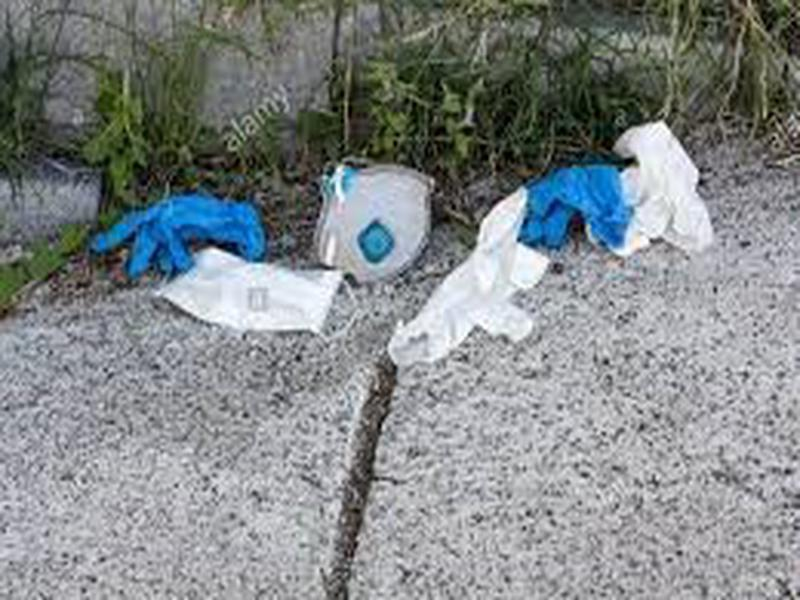gloves: (381, 184, 550, 377), (87, 188, 272, 279), (608, 114, 717, 255), (522, 161, 637, 254)
mask: (302, 157, 443, 289), (145, 249, 338, 343)
